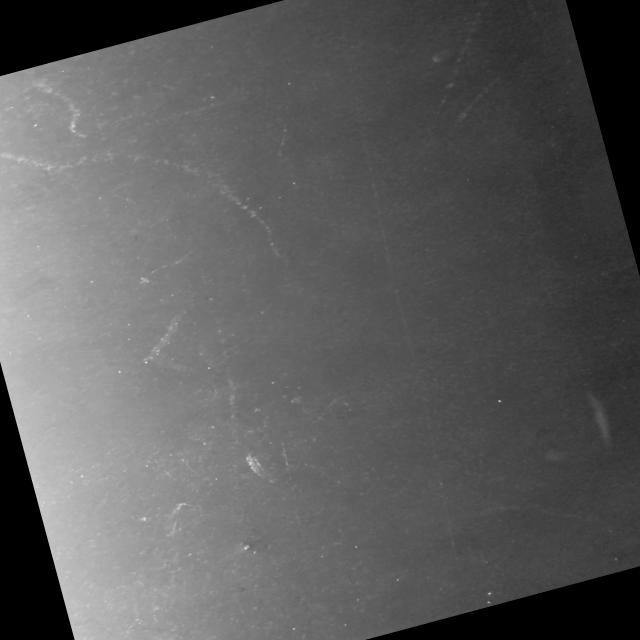beta: (0, 71, 289, 338), (469, 459, 640, 594), (177, 296, 270, 508), (390, 0, 554, 120), (0, 56, 89, 163), (428, 58, 527, 137), (258, 98, 306, 164), (487, 0, 555, 29)
